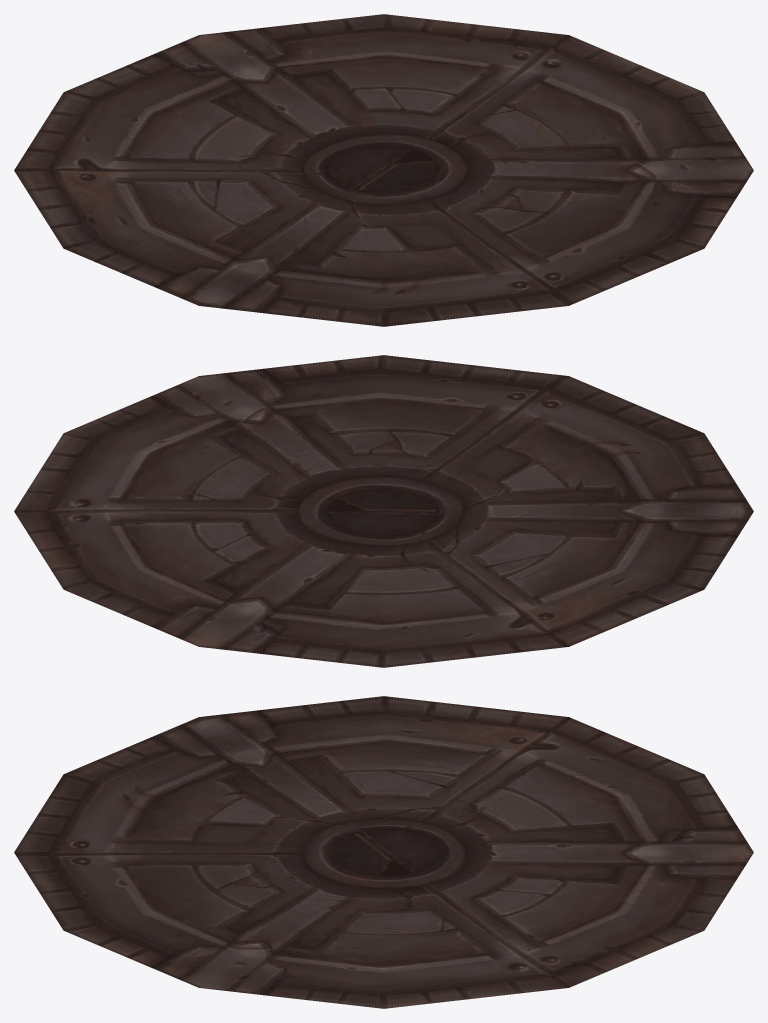
Rendered from sn_jixie_pingtai_001.FBX.
3 renders of one model, top to bottom at view 1: azimuth 30°, elevation 25°; view 2: azimuth 150°, elevation 25°; view 3: azimuth 270°, elevation 25°, orthographic.
Parts seen in each view (by area): view 1: sn_jixie_pingtai_001; view 2: sn_jixie_pingtai_001; view 3: sn_jixie_pingtai_001.
Boxes of the visible parts, box(x1,y1,x2,y2) form: sn_jixie_pingtai_001: box(14, 14, 753, 326); sn_jixie_pingtai_001: box(14, 355, 753, 667); sn_jixie_pingtai_001: box(14, 696, 753, 1008).
Bounding box in the file's own units: 49.38 × 49.38 × 3.81e-06.
